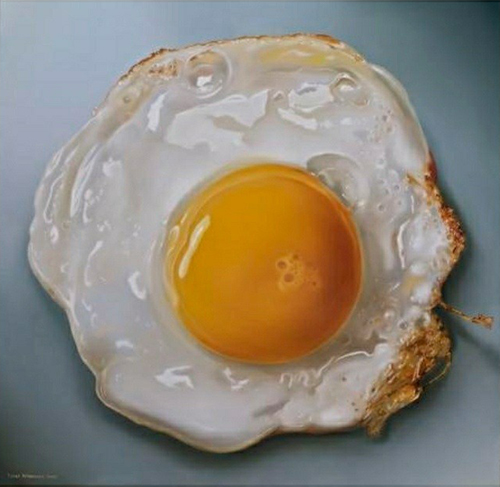gyelanhulai: (29, 32, 468, 470)
